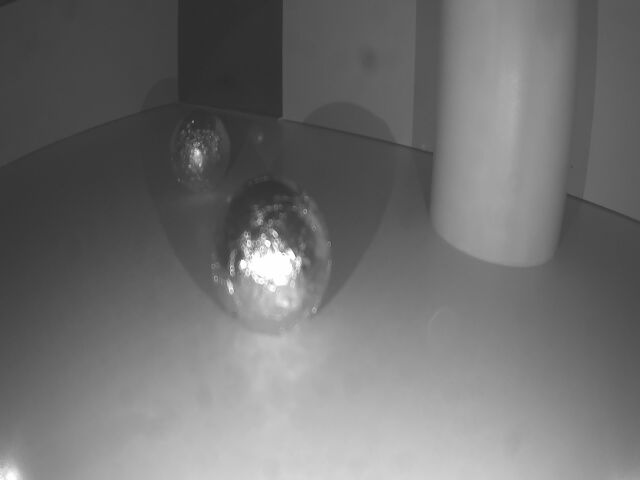Live: (213, 175, 333, 340), (168, 106, 231, 194)
